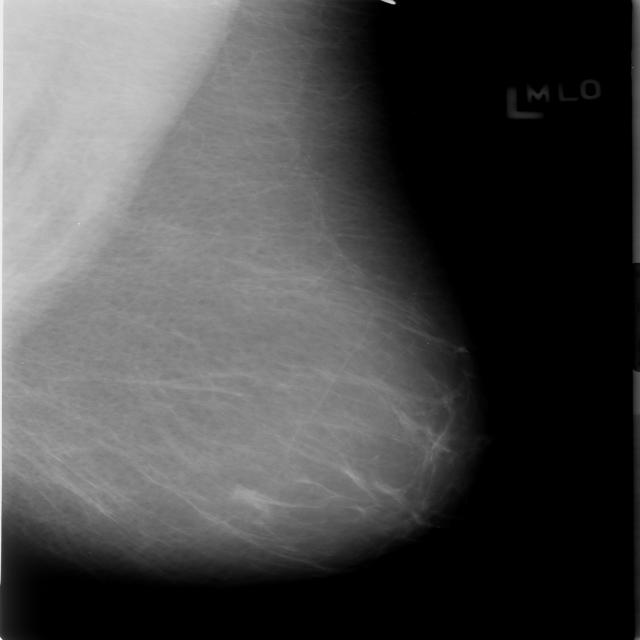normal: (0, 4, 496, 579)
